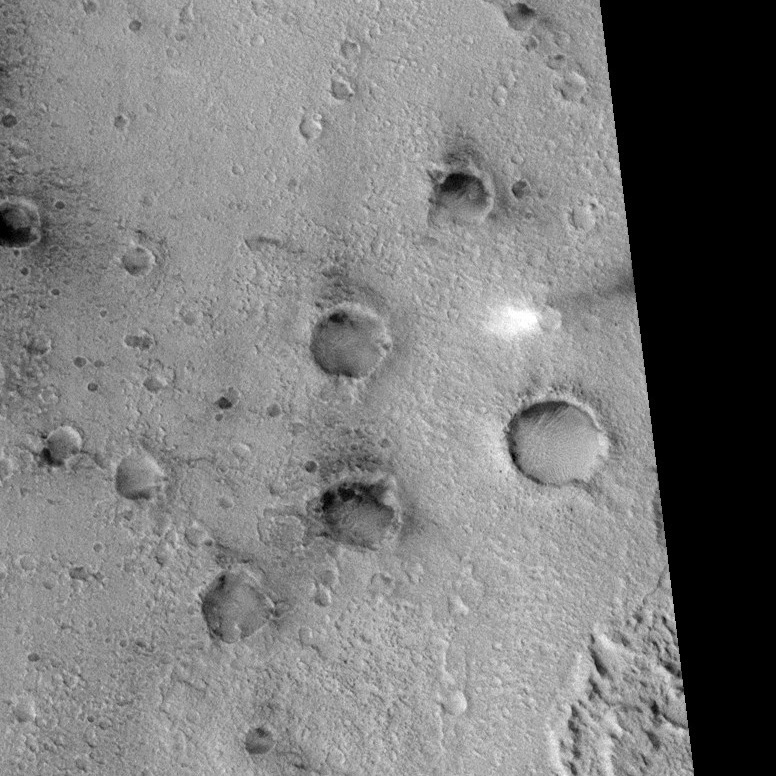dust_devil: (482, 278, 635, 346)
